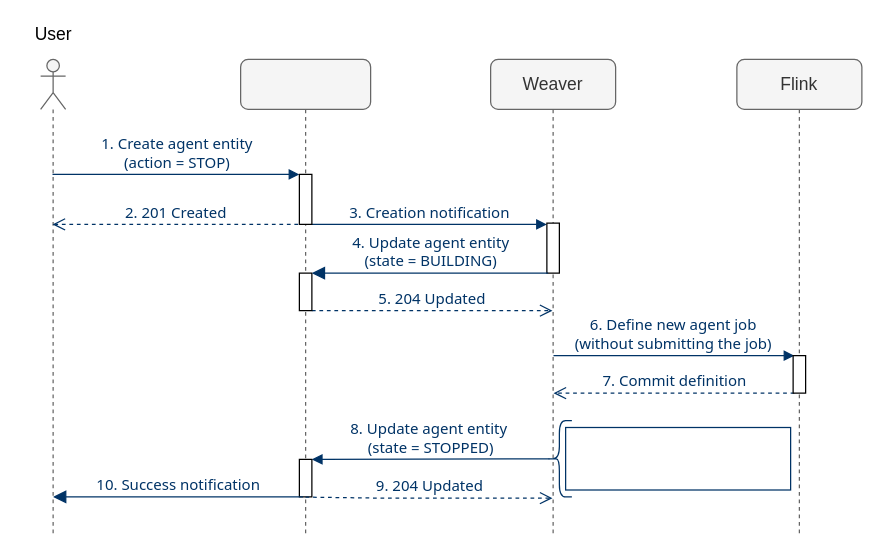
Image size: 884x556. Some labels were removed from this diagram. The box of each missing label's shape, as (x1, y1, x2, y2) in pixels:
Broker: (239, 58, 371, 534)
stateInfo = "SUCCESS! Aggregation agent stopped successfully ": (564, 426, 791, 490)
